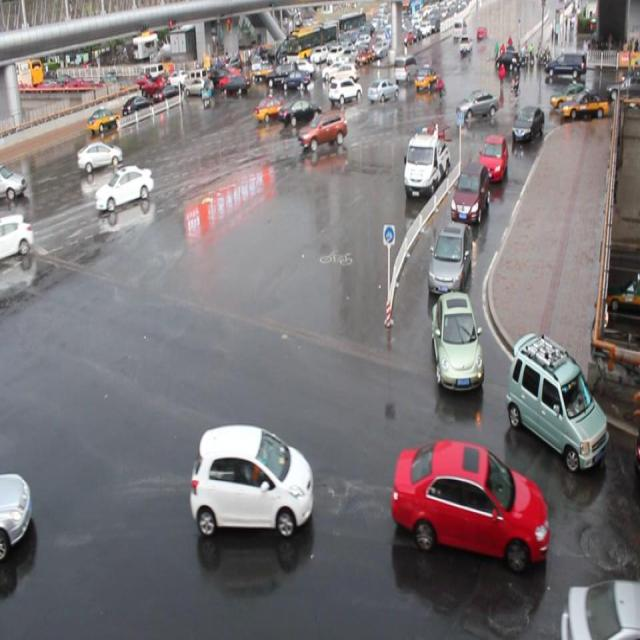bus: (402, 128, 448, 198)
car: (391, 437, 548, 570), (189, 424, 313, 540), (505, 331, 607, 469), (429, 288, 483, 391), (558, 579, 640, 640), (426, 219, 471, 293), (95, 166, 154, 212), (1, 469, 34, 551), (449, 162, 489, 226), (300, 110, 345, 146), (77, 138, 124, 170), (1, 214, 34, 257), (478, 133, 507, 181), (455, 88, 498, 120), (511, 105, 544, 144), (279, 96, 320, 123), (328, 76, 361, 102), (255, 95, 289, 120), (368, 78, 398, 101)
truck: (1, 164, 28, 200)
